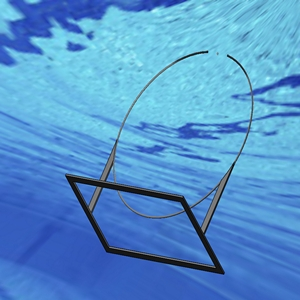circle: (64, 47, 255, 278)
